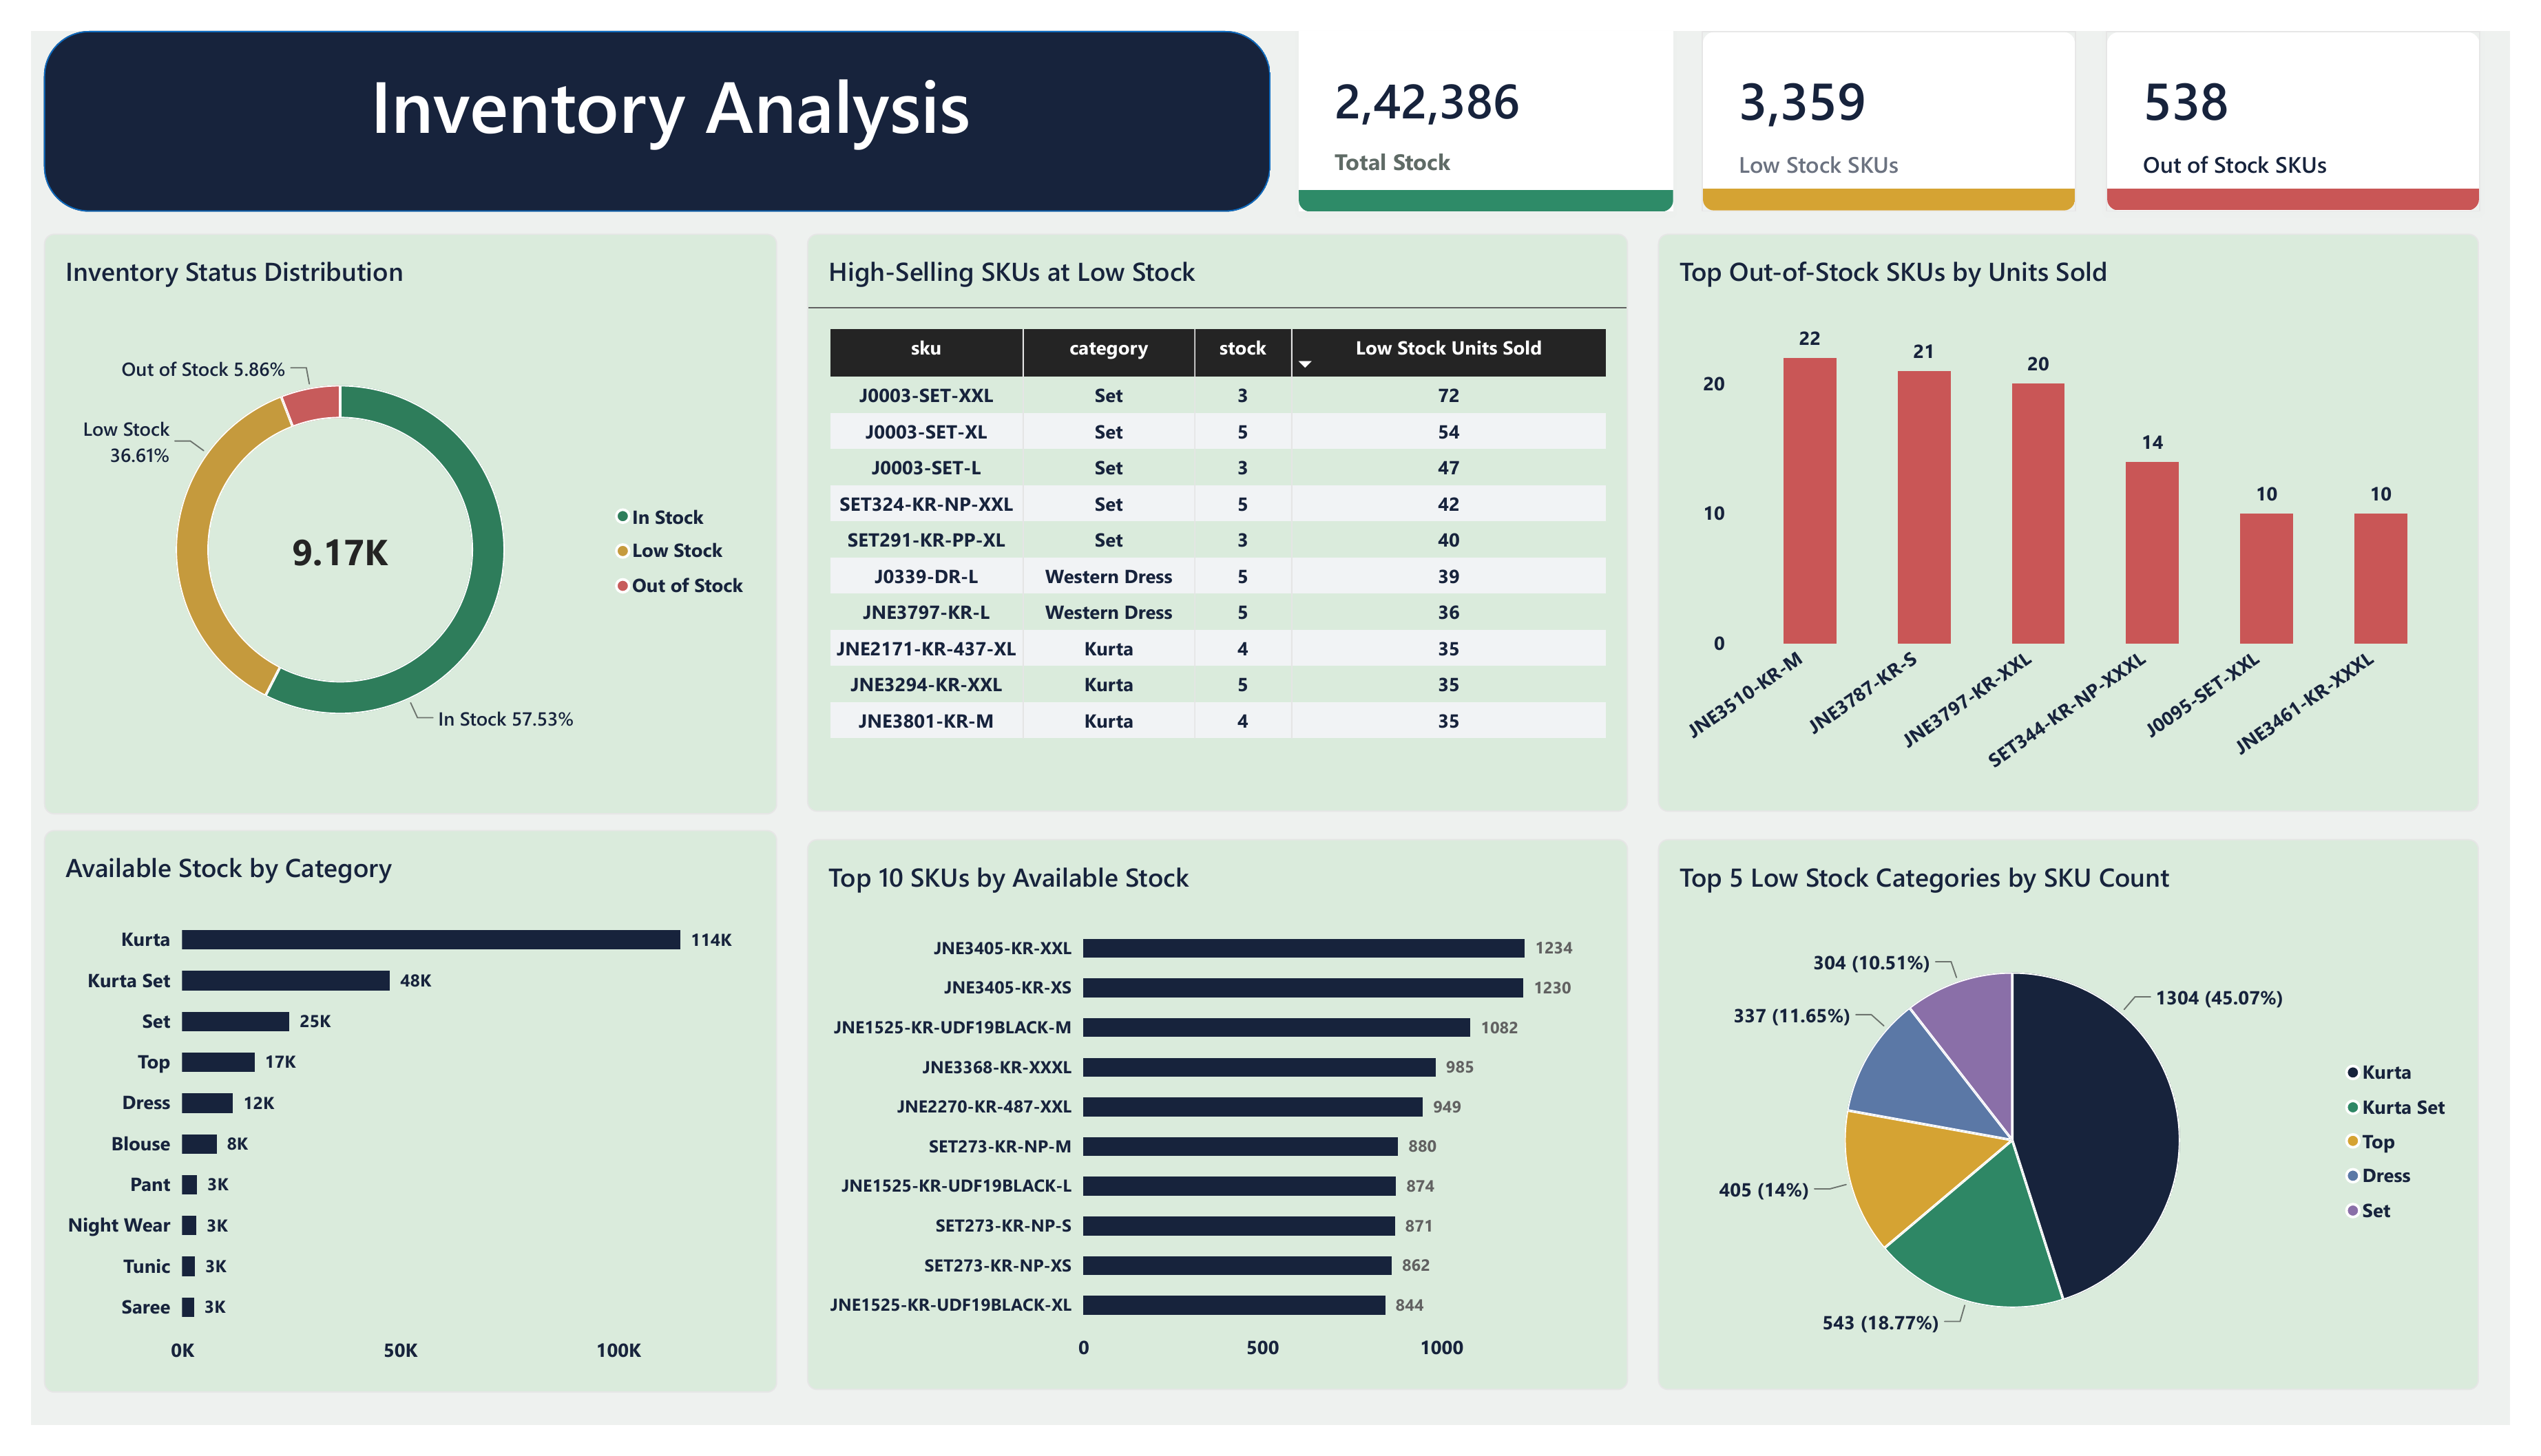

The page's visual inventory and layout, read from the dashboard file:
{"tool":"powerbi","page":{"name":"Inventory Analysis","canvas":[1920,1080],"ordinal":1},"visuals":[{"type":"textbox","box":[10,0,280,280],"z":0},{"type":"donutChart","title":"Inventory Status Distribution","fields":{"Category":["fashion_retail_analytics inventory_cleaned.stock_status"],"Y":["Count(fashion_retail_analytics inventory_cleaned.sku)"]},"box":[10.3,156.9,567.9,450.2],"z":1000},{"type":"clusteredBarChart","title":"Available Stock by Category","fields":{"Category":["fashion_retail_analytics inventory_cleaned.category"],"Y":["Sum(fashion_retail_analytics inventory_cleaned.stock)"]},"box":[10.3,619.5,567.9,435.7],"z":2000},{"type":"tableEx","title":"High-Selling SKUs at Low Stock","fields":{"Values":["Dim_SKU.sku","fashion_retail_analytics amazon_sales_cleaned.category","fashion_retail_analytics inventory_cleaned.stock","Dim_SKU.Low Stock Units Sold"]},"box":[600.9,156.9,636,448.1],"z":3000},{"type":"clusteredBarChart","title":"Top 10 SKUs by Available Stock","fields":{"Category":["Dim_SKU.sku"],"Y":["Sum(fashion_retail_analytics inventory_cleaned.stock)"]},"box":[600.9,625.7,636,427.4],"z":4000},{"type":"cardVisual","fields":{"Data":["Dim_SKU.Total Stock"]},"box":[982,0,290,140],"z":5000},{"type":"cardVisual","fields":{"Data":["Dim_SKU.Low Stock SKUs"]},"box":[1294.4,0,290,140.4],"z":6000},{"type":"cardVisual","fields":{"Data":["Dim_SKU.Out of Stock SKUs"]},"box":[1606.5,0,290,140.4],"z":7000},{"type":"shape","box":[10.3,0,949.9,140.4],"z":8000},{"type":"textbox","box":[31,0,929.2,119.8],"z":9000},{"type":"columnChart","title":"Top Out-of-Stock SKUs by Units Sold","fields":{"Category":["Dim_SKU.sku"],"Y":["Dim_SKU.Out of Stock Units Sold"]},"box":[1259.6,156.9,636,448.1],"z":10000},{"type":"pieChart","title":"Top 5 Low Stock Categories by SKU Count","fields":{"Category":["fashion_retail_analytics inventory_cleaned.category"],"Y":["Dim_SKU.Low Stock SKU Count"]},"box":[1259.6,625.7,636,427.4],"z":11000}]}

Visuals, with their boxes in screenshot pixels (x1, y1, x2, y2), scaled from the page's 1920x1080 canvas onto the 2541x1456 screenshot:
textbox: (13, 0, 384, 377)
"Inventory Status Distribution" donutChart: (14, 211, 765, 819)
"Available Stock by Category" clusteredBarChart: (14, 835, 765, 1422)
"High-Selling SKUs at Low Stock" tableEx: (795, 211, 1637, 816)
"Top 10 SKUs by Available Stock" clusteredBarChart: (795, 843, 1637, 1420)
cardVisual - Dim_SKU.Total Stock: (1299, 0, 1684, 189)
cardVisual - Dim_SKU.Low Stock SKUs: (1713, 0, 2097, 189)
cardVisual - Dim_SKU.Out of Stock SKUs: (2126, 0, 2510, 189)
shape: (14, 0, 1270, 189)
textbox: (41, 0, 1270, 162)
"Top Out-of-Stock SKUs by Units Sold" columnChart: (1667, 211, 2509, 816)
"Top 5 Low Stock Categories by SKU Count" pieChart: (1667, 843, 2509, 1420)
